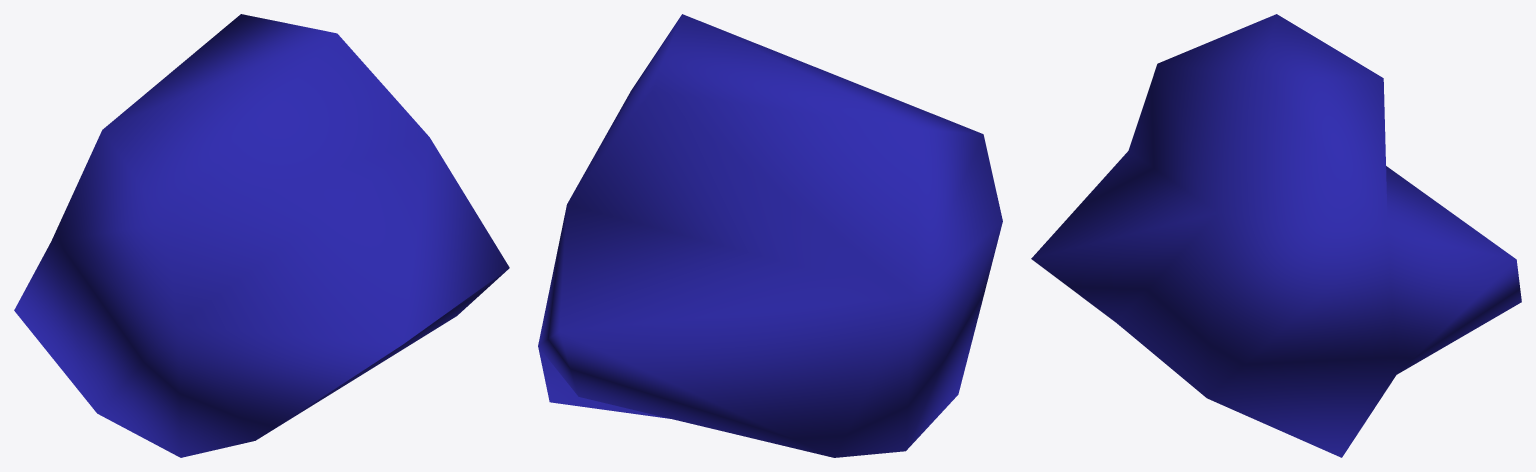
3 views of the same model, side by side, from view 1: azimuth 30°, elevation 25°; view 2: azimuth 150°, elevation 25°; view 3: azimuth 270°, elevation 25° (orthographic). The views are drawn at different scales.
Bounding box in the file's own units: 0.1212 × 0.1165 × 0.1518.
